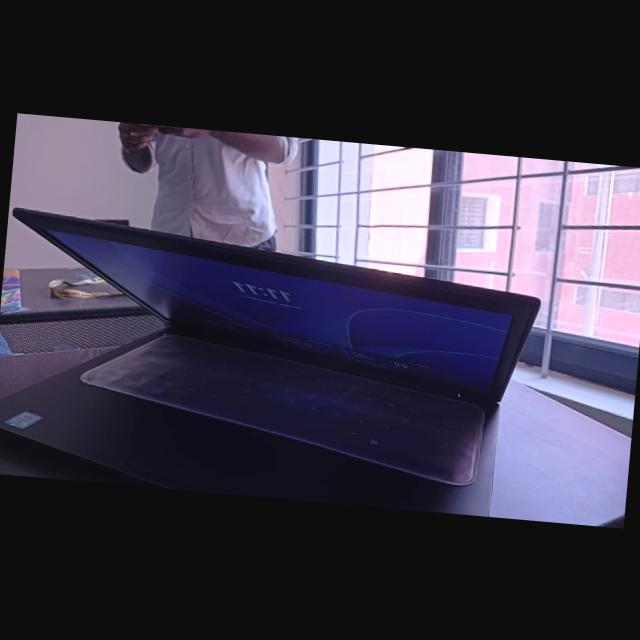laptop: (0, 200, 567, 521)
